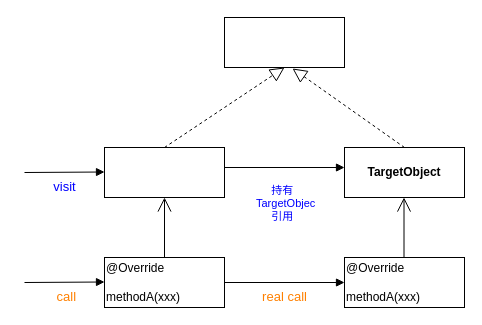
The diagram is 482 pixels wide and 325 high, and some of its shapes have lost their labels. The centre of each missing label's shape, as x and y in pixels:
Interface: (x=284, y=42)
ProxyObject: (x=164, y=172)
